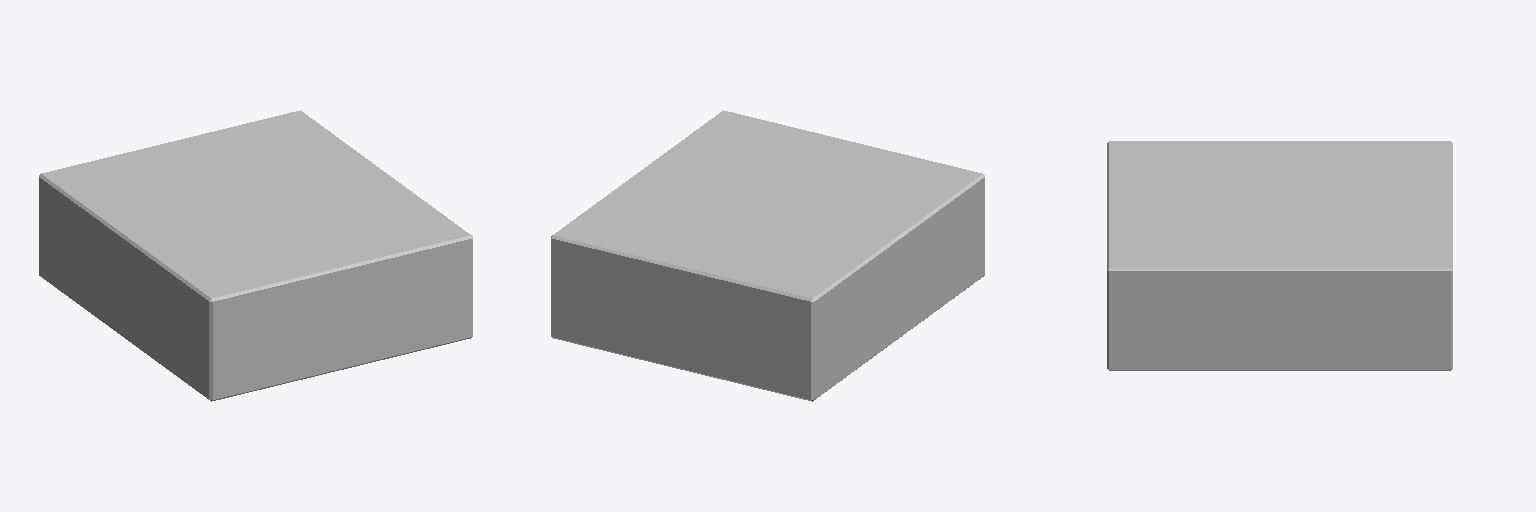
Rendered from Input_prediction_mesh.obj.
The picture shows the model from 3 angles: view 1: azimuth 30°, elevation 25°; view 2: azimuth 150°, elevation 25°; view 3: azimuth 270°, elevation 25°; orthographic projection.
Parts seen in each view (by area): view 1: mat3, mat1, mat0, mat2; view 2: mat3, mat1, mat0; view 3: mat3, mat1, mat0.
Part boxes in pixels (x1,y1,x2,y2): mat3: (50, 112, 472, 336); mat1: (39, 110, 472, 394); mat0: (39, 268, 472, 401); mat2: (148, 284, 257, 314); mat3: (557, 112, 975, 301); mat1: (551, 110, 984, 394); mat0: (551, 268, 984, 401); mat3: (1107, 143, 1452, 340); mat1: (1107, 141, 1452, 364); mat0: (1107, 314, 1452, 370).
Bounding box in the file's own units: 4.72 × 1.76 × 5.36.